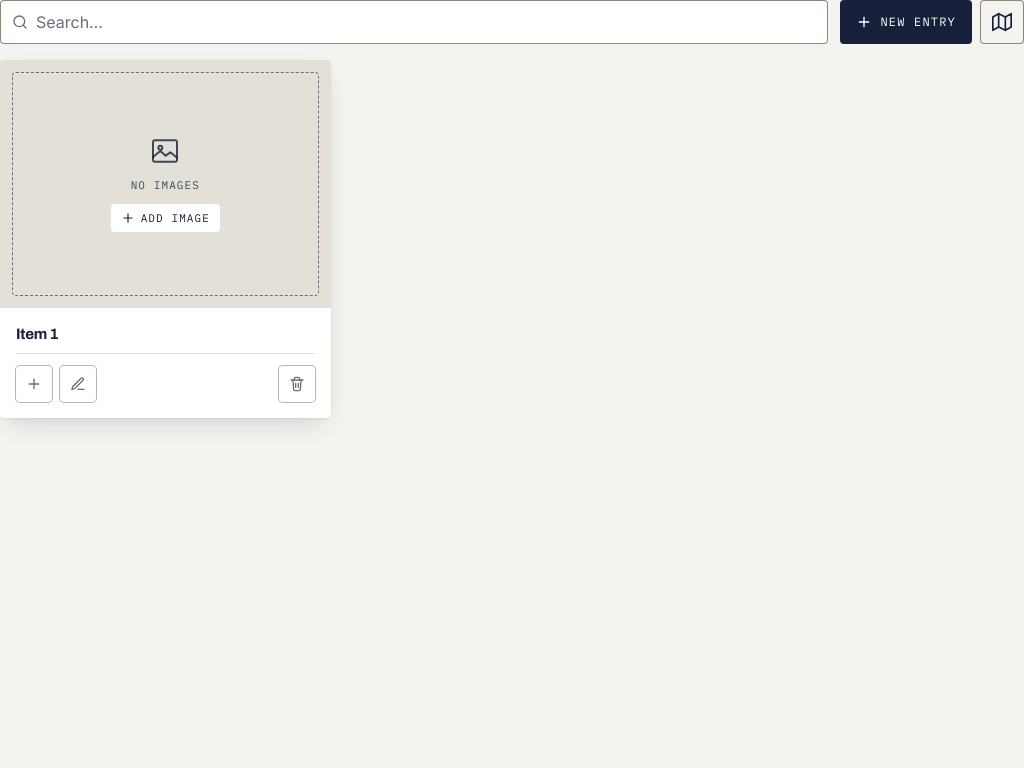
Test: ItemList edit flow › closes the edit modal once the save succeeds
The image size is (1024, 768).
Click the button with test id "edit-entry" at (78, 384), box [60,366,96,402]
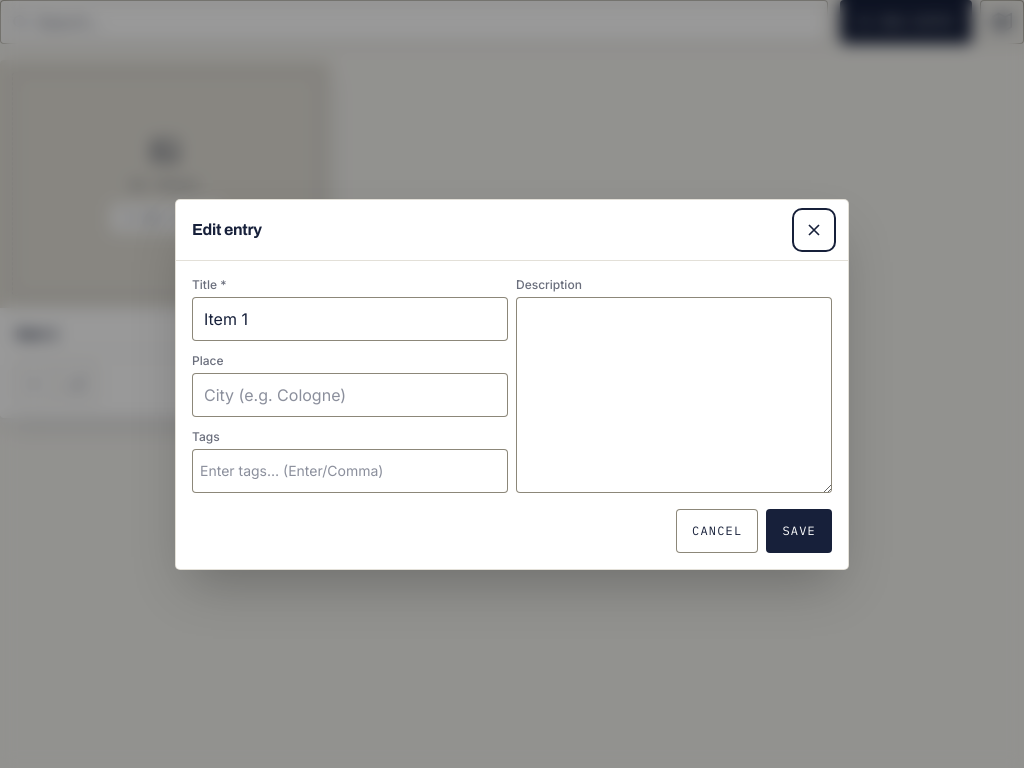
Now the field with test id "item-title" holds "Item 1"
Replace the text in the field with test id "item-title" with "Updated title" at (350, 318), box [192,296,508,340]
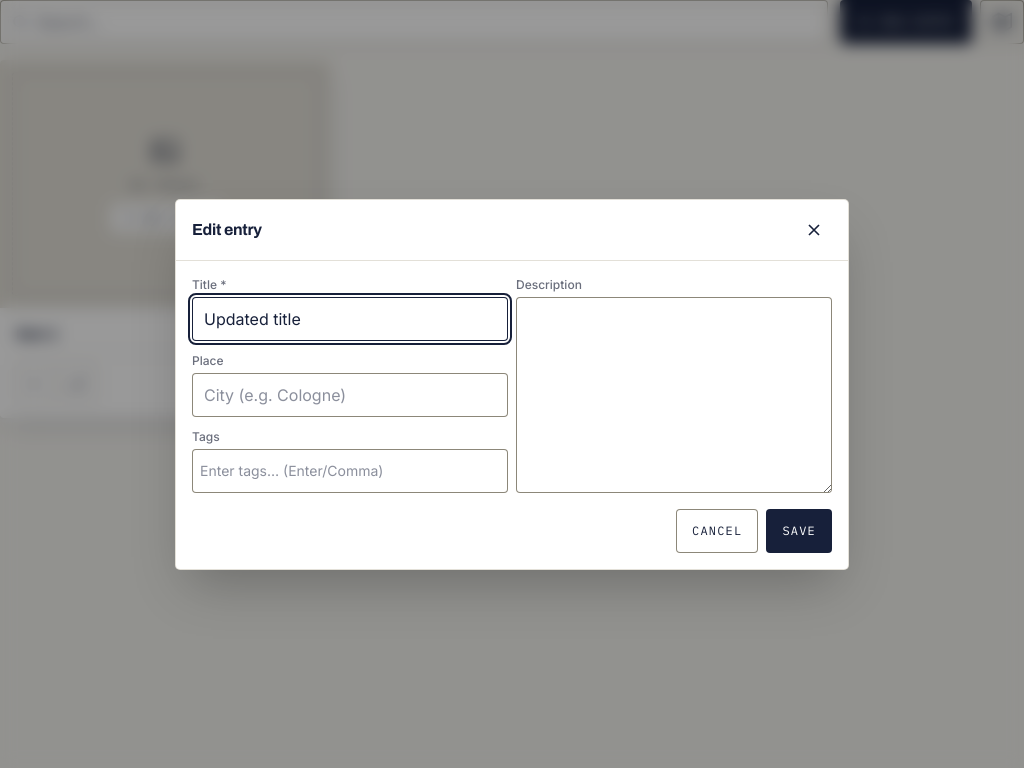
Click the button "Save" at (799, 530), box [766,508,832,552]
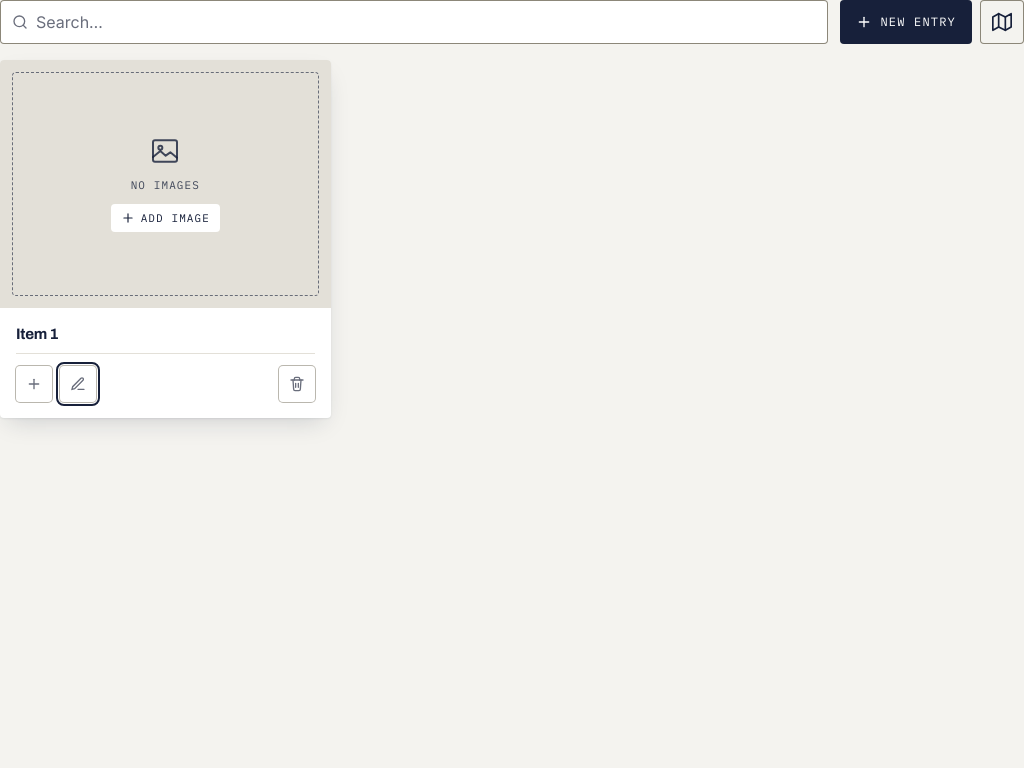
Now the field with test id "item-title" is gone
